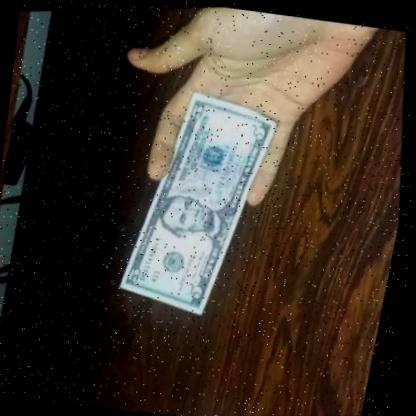five-front: (86, 66, 316, 337)
